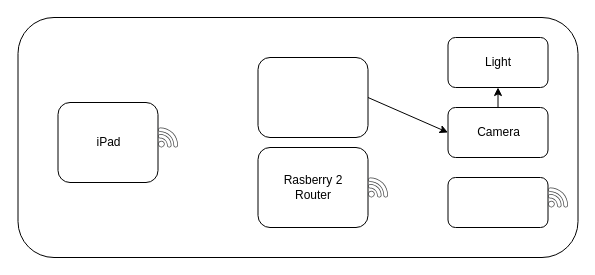
This 595x275 diagram has some shape labels left out. The shapes that lost their labels are listed below. From the top down, each one's box as (x1, y1, x2, y2) in pixels, then its label:
(257, 56, 368, 138): Rasberry 1 Frontend Backend
(447, 176, 548, 228): Printer
